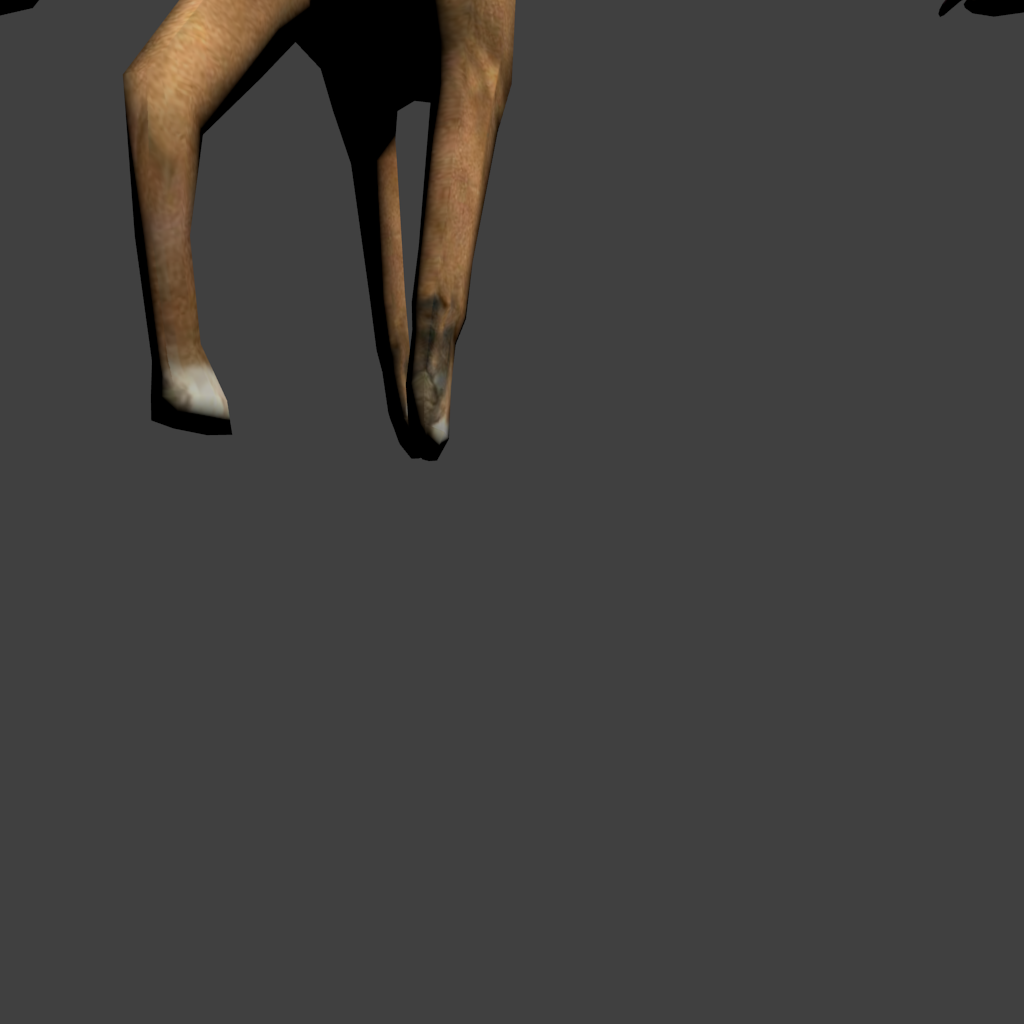Dog: (0, 0, 516, 461)
